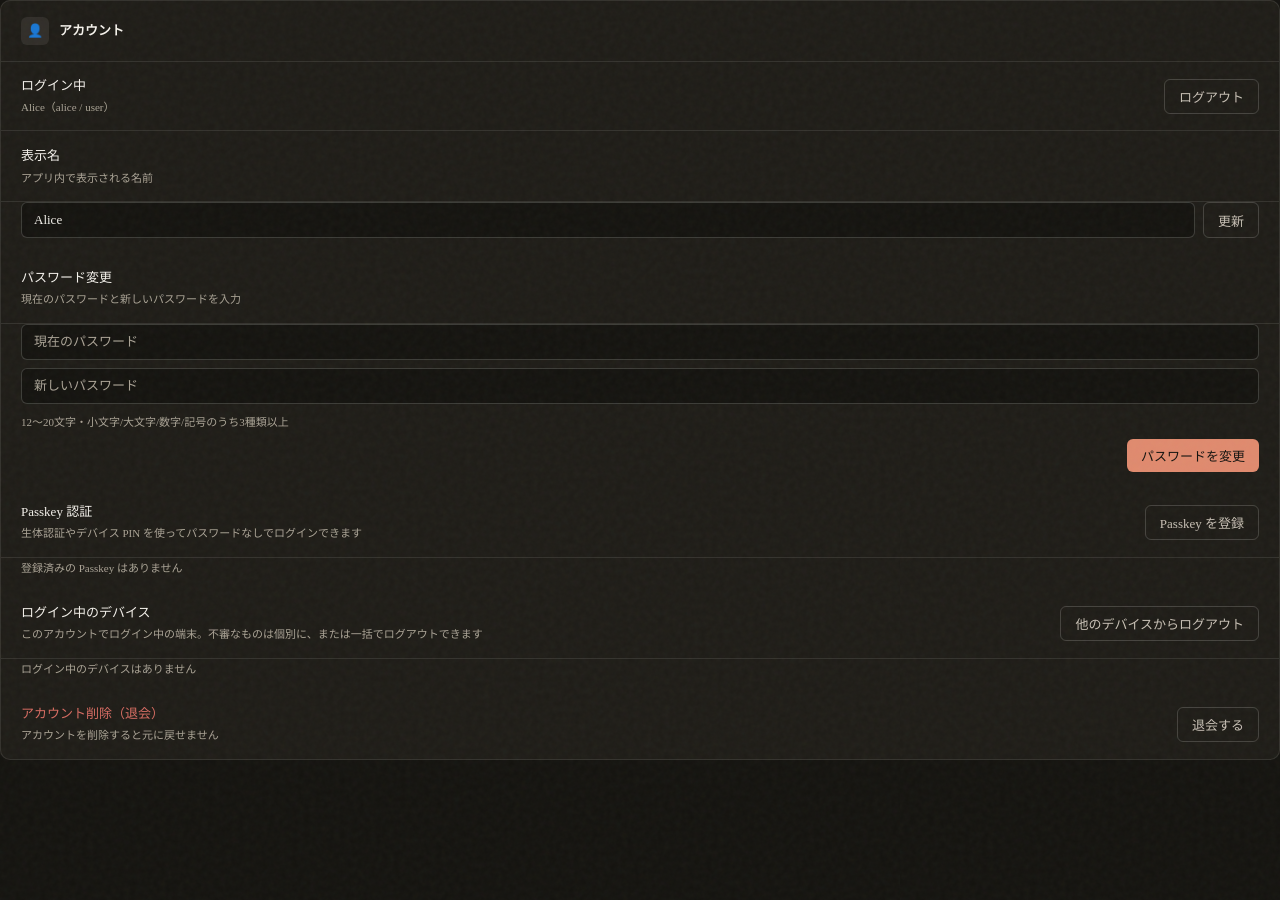
Scenario: AccountSection — Passkey 登録 › 登録成功後に成功メッセージを表示し一覧を再取得する
Click the button "Passkey を登録": (1202, 522) [1145, 505, 1259, 540]
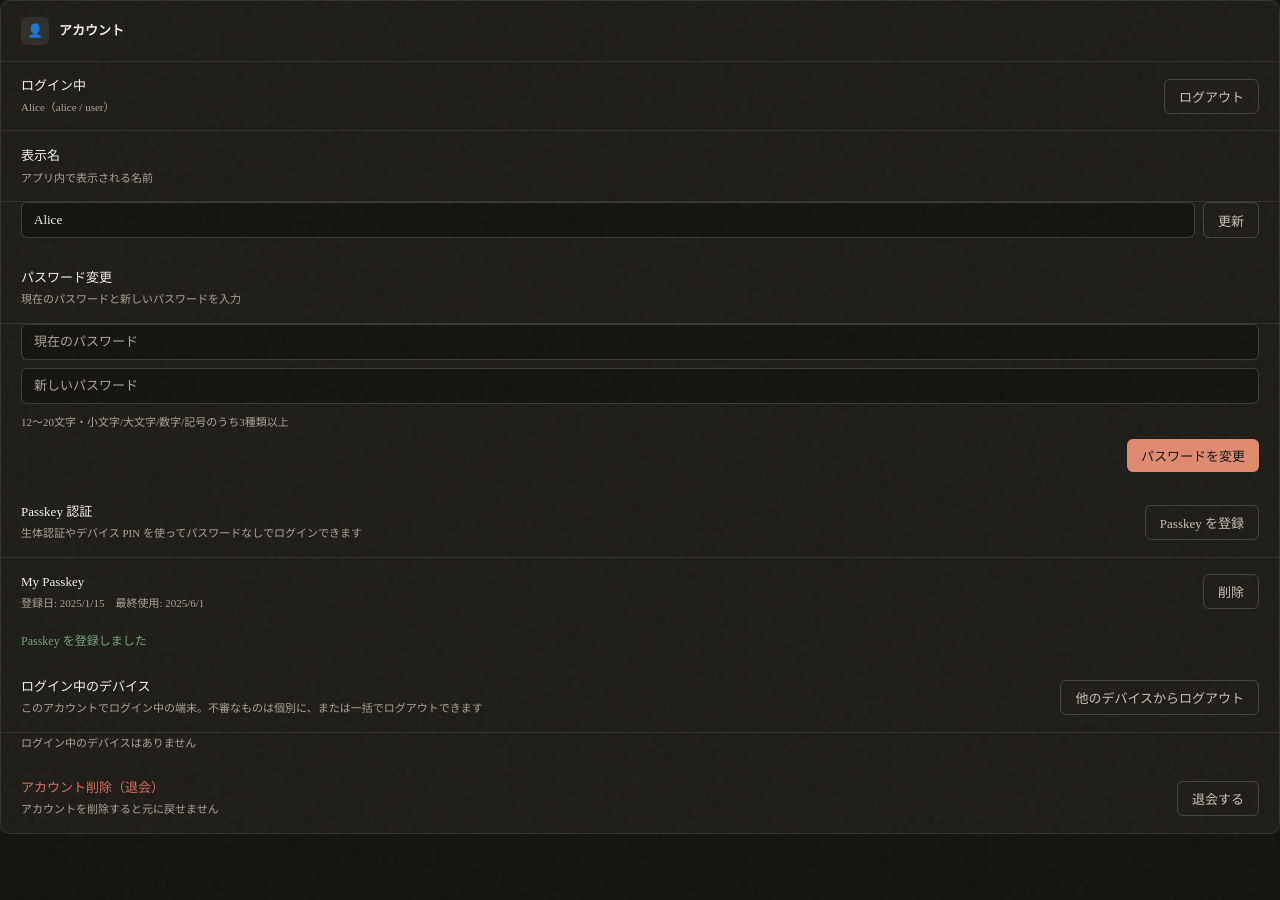
Now the text "Passkey を登録しました" is shown, box [21, 634, 147, 648]
